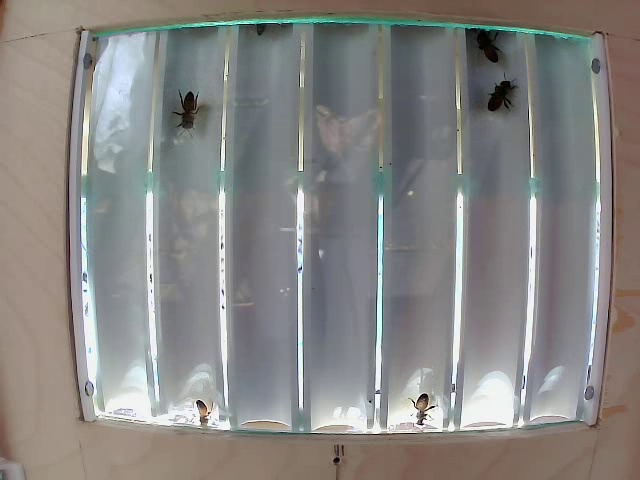bee: (164, 85, 206, 140), (468, 69, 513, 120), (466, 22, 503, 70), (398, 387, 445, 422)
